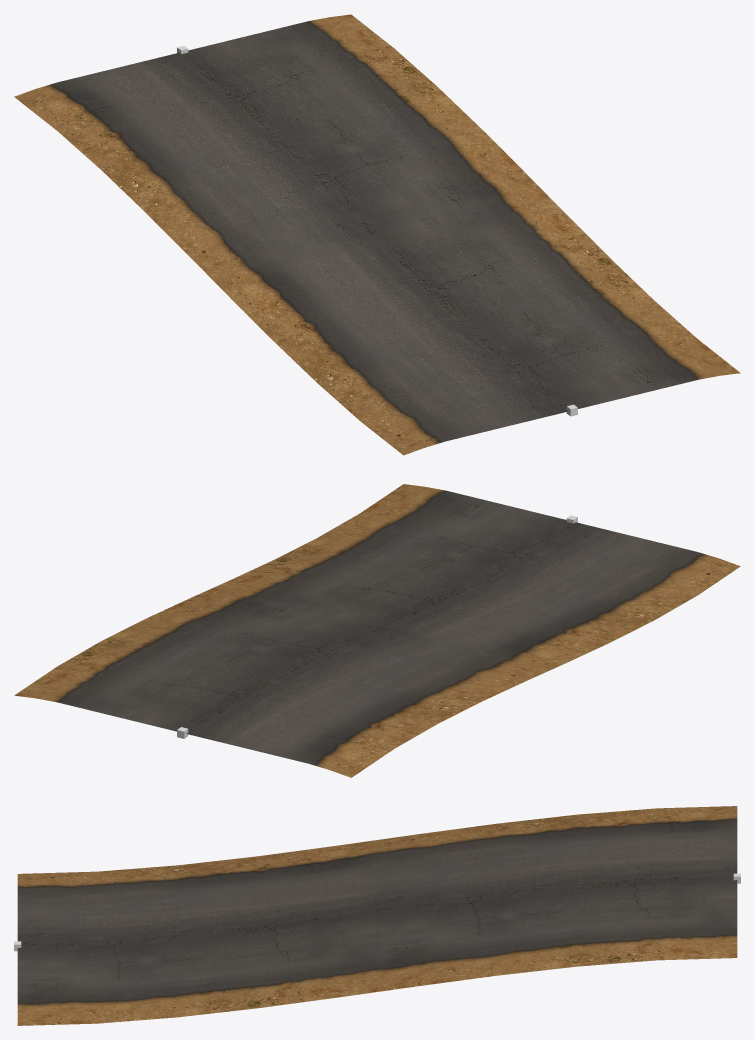
File: roadSlope.up1.fbx
The picture shows the model from 3 angles, top to bottom: view 1: azimuth 30°, elevation 25°; view 2: azimuth 150°, elevation 25°; view 3: azimuth 270°, elevation 25°; orthographic projection. The views are drawn at different scales.
Visible parts, largest first — view 1: MESH roadSlop.up1; view 2: MESH roadSlop.up1; view 3: MESH roadSlop.up1.
Part boxes in pixels (x1=…): MESH roadSlop.up1: x1=14, y1=14, x2=740, y2=455; MESH roadSlop.up1: x1=14, y1=484, x2=740, y2=777; MESH roadSlop.up1: x1=17, y1=806, x2=737, y2=1025.
Size of what is drawn, in the model's own units: 2400 by 551 by 4850.
